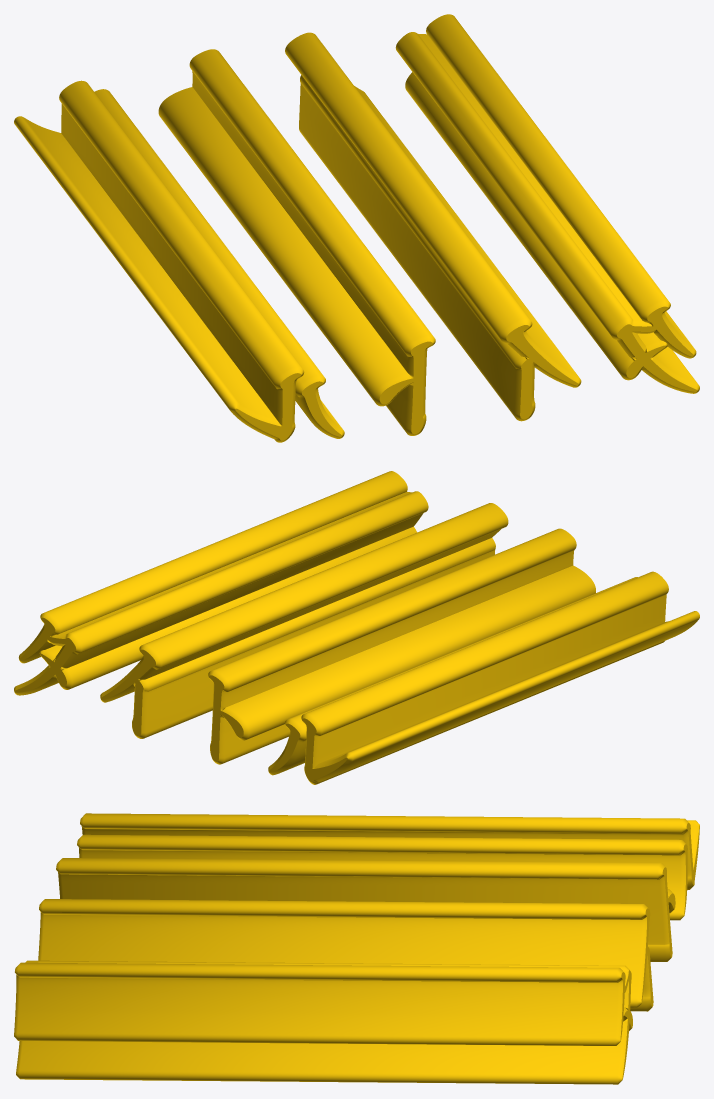
File: Title.obj
3 renders of one model, top to bottom at view 1: azimuth 30°, elevation 25°; view 2: azimuth 150°, elevation 25°; view 3: azimuth 270°, elevation 25°, orthographic. The views are drawn at different scales.
Visible parts, largest first — view 1: テキスト; view 2: テキスト; view 3: テキスト.
Boxes of the visible parts, x1,y1,x2,y2 form: テキスト: (14,14,699,442); テキスト: (14,471,699,784); テキスト: (14,813,699,1084).
Bounding box in the file's own units: 27.19 × 7.22 × 31.8.
Materials: 1 (1 with a texture image).
